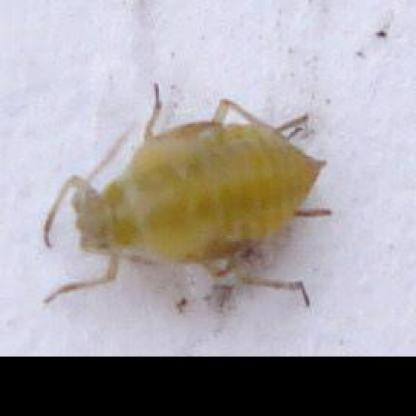aphid: (43, 75, 335, 328)
